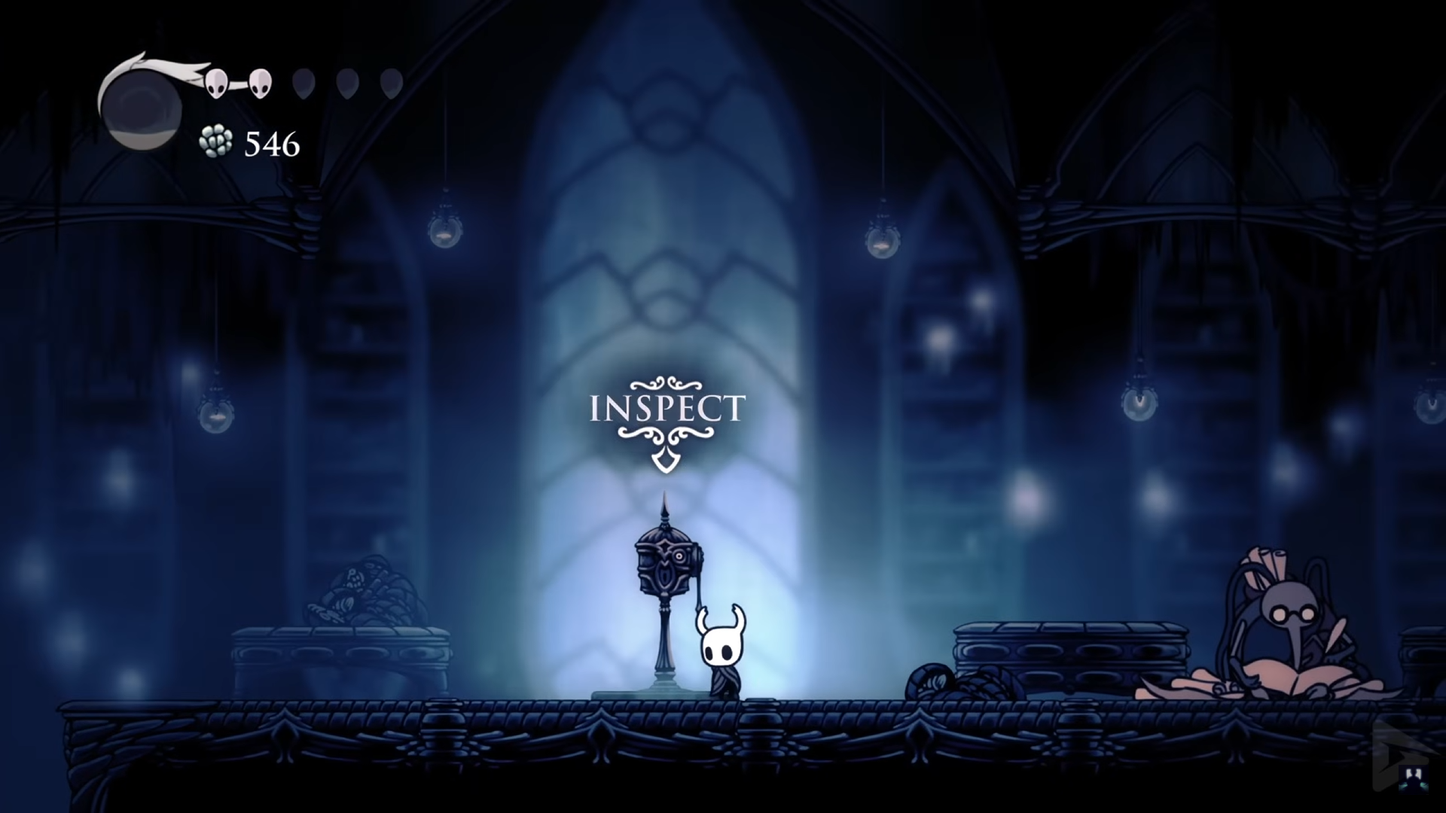HK: (691, 602, 757, 698)
